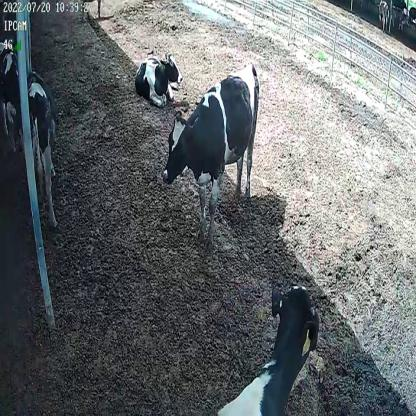cow: (162, 62, 262, 241), (217, 282, 322, 416), (18, 70, 58, 227), (134, 48, 182, 106)
